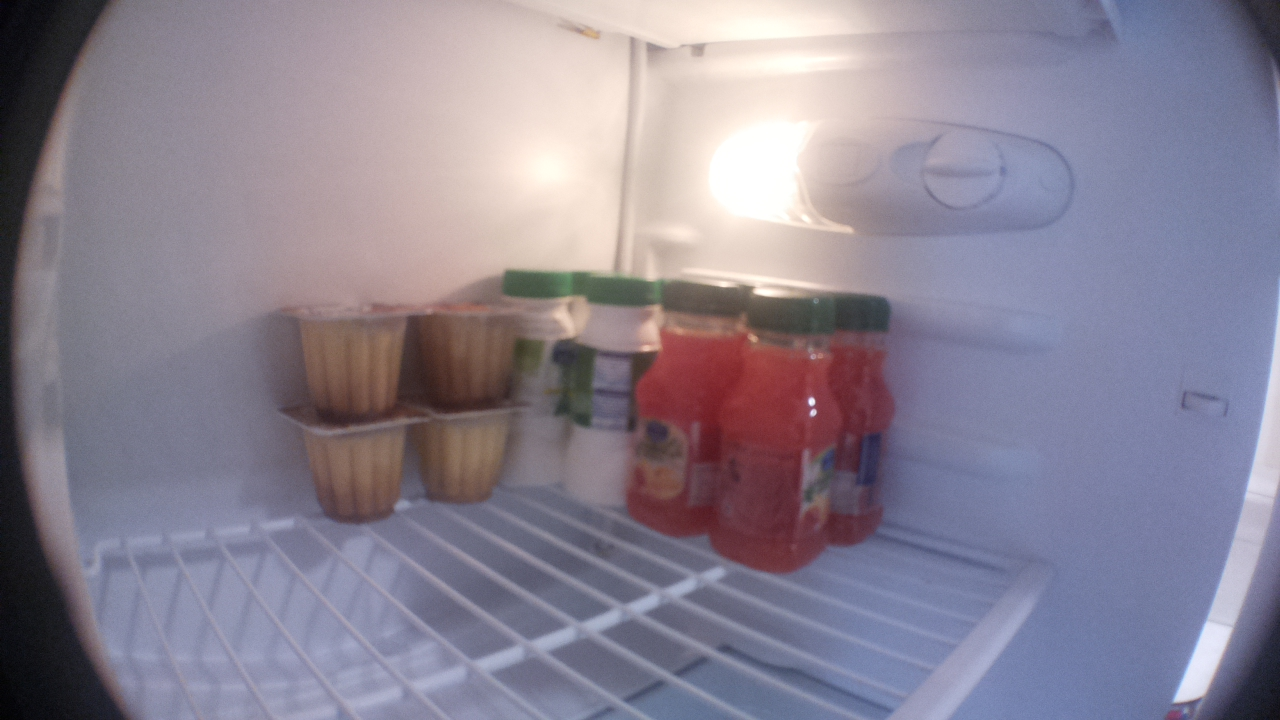caramel: (264, 291, 425, 419), (276, 403, 422, 523), (409, 299, 536, 410), (417, 405, 540, 511)
juice: (708, 284, 841, 578), (619, 273, 748, 543), (829, 282, 897, 549)
laban: (563, 276, 659, 511), (487, 264, 574, 496)
